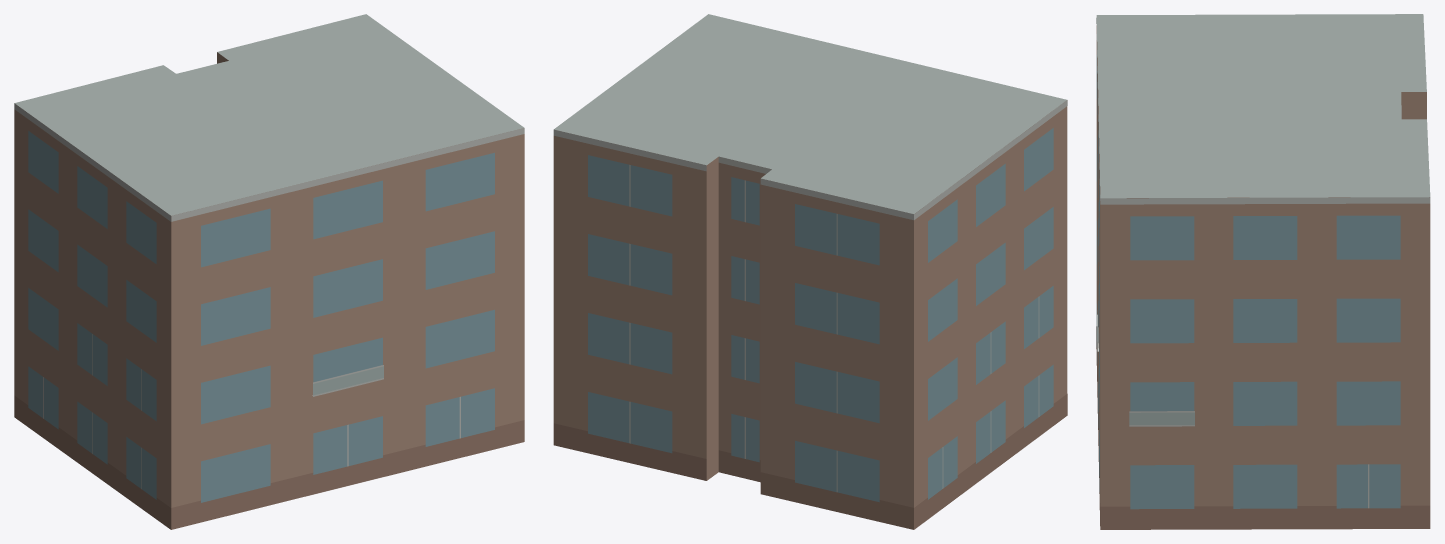
Rendered from survey-upis-32724097.glb.
The picture shows the model from 3 angles, left to right: view 1: azimuth 30°, elevation 25°; view 2: azimuth 150°, elevation 25°; view 3: azimuth 270°, elevation 25°; orthographic projection. The views are drawn at different scales.
Visible parts, largest first — view 1: survey-upis-32724097.tmp; view 2: survey-upis-32724097.tmp; view 3: survey-upis-32724097.tmp.
Part boxes in pixels (x1,y1,x2,y2): survey-upis-32724097.tmp: (14,14,524,529); survey-upis-32724097.tmp: (553,14,1067,529); survey-upis-32724097.tmp: (1096,14,1430,529).
Size of the model in its own units: 15.04 by 12.6 by 11.5.
